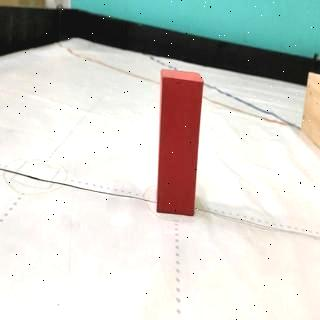redbox: (157, 70, 203, 218)
